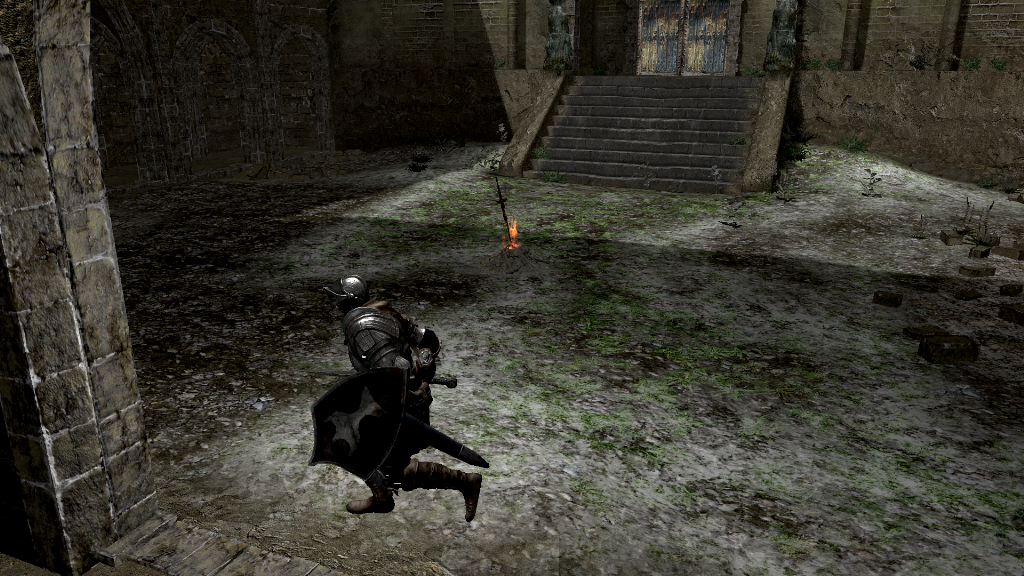bonfire: (486, 175, 530, 263)
player: (306, 276, 490, 522)
